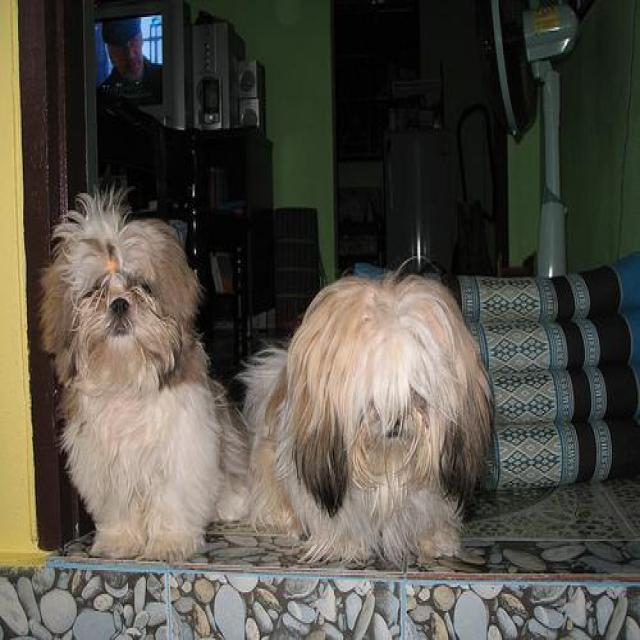shih_tzu: (235, 253, 504, 566), (40, 188, 252, 568)
